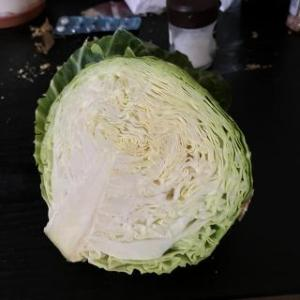cabbage: (32, 29, 258, 276)
